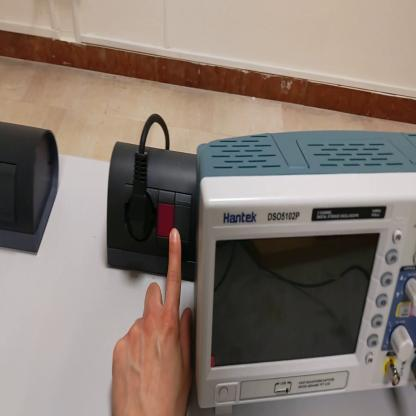hand: (111, 227, 194, 416)
oscilloscope: (193, 130, 415, 412)
socket: (109, 142, 200, 285), (2, 121, 61, 254)
